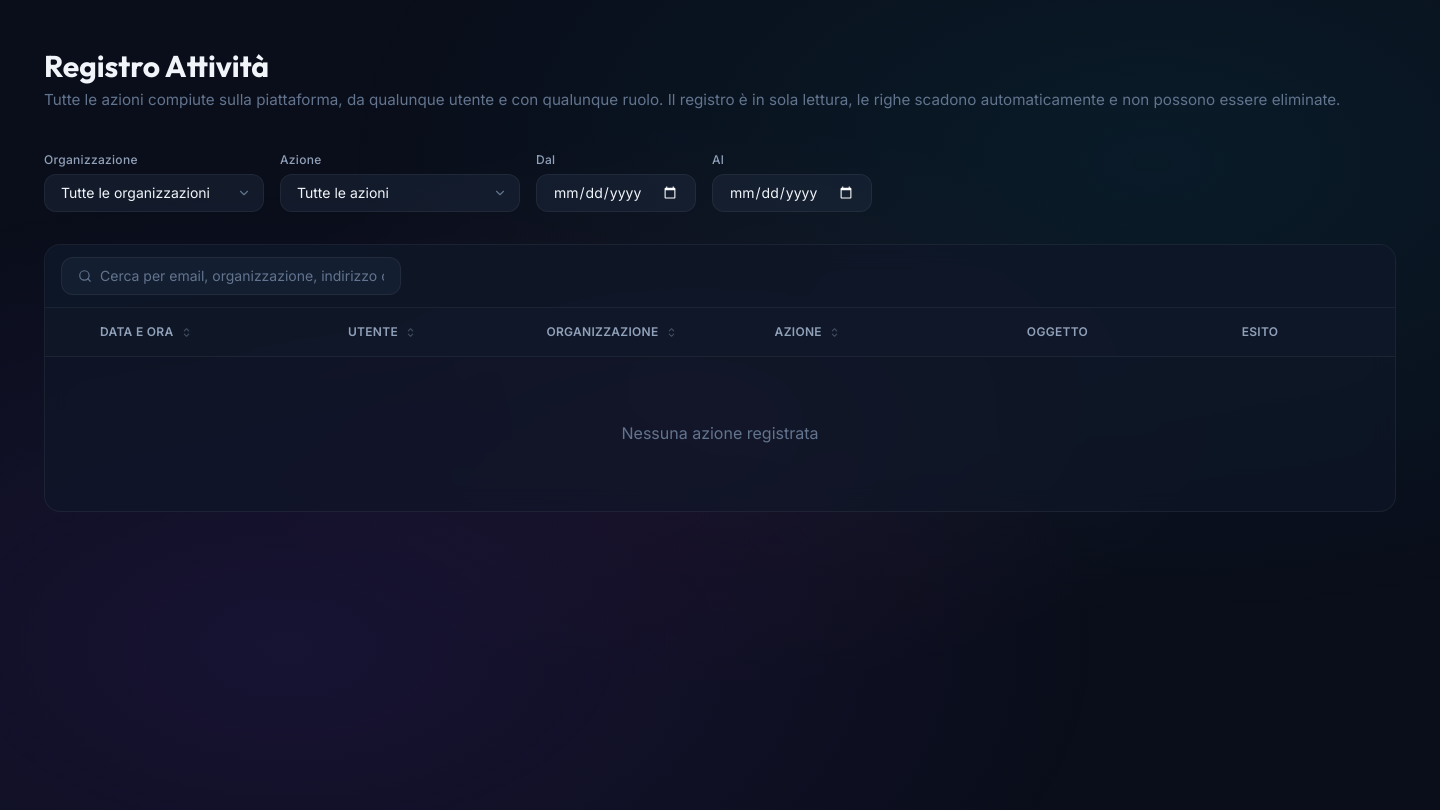
Test: finestra e stati › distingue un registro vuoto da una ricerca senza esiti
The image size is (1440, 810).
Expected: the text "Nessuna azione registrata" is shown, left=45, top=357, right=1395, bottom=511
Click the dropdown named "Azione". click: [400, 193]
box: left=280, top=174, right=520, bottom=212
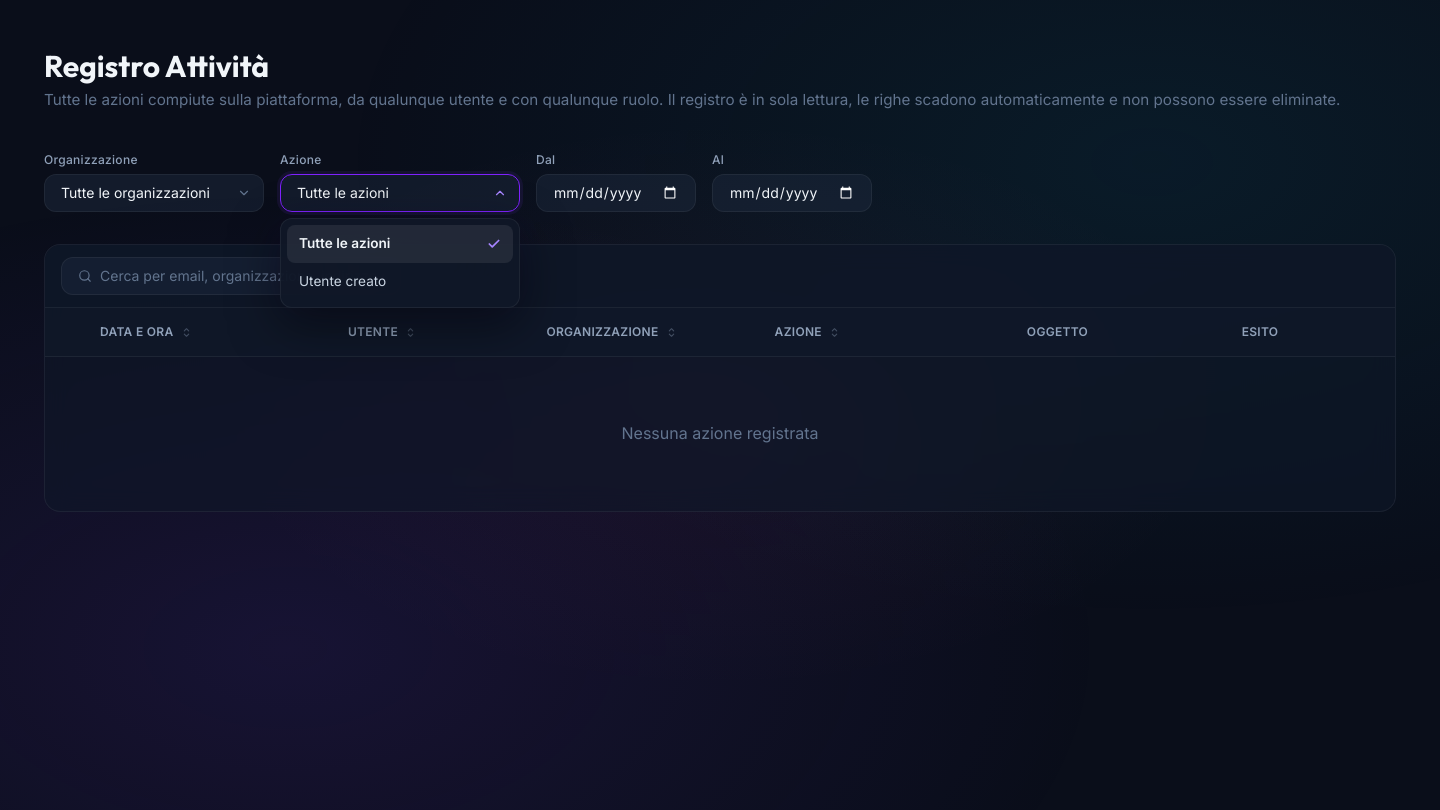
Click the option "Utente creato". click: [343, 281]
box: left=299, top=273, right=386, bottom=289
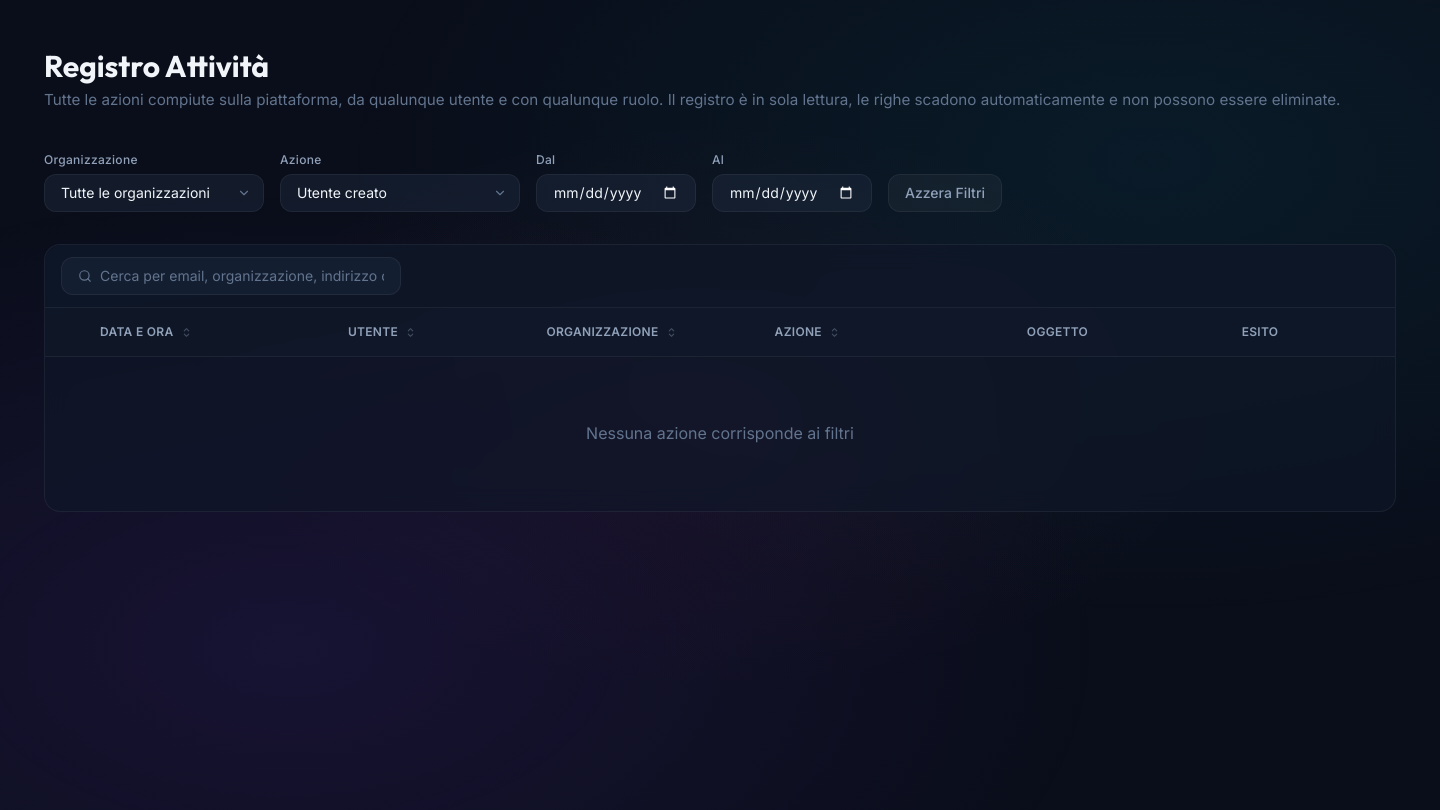
Expected: the text "Nessuna azione corrisponde ai filtri" is shown, left=45, top=357, right=1395, bottom=511
